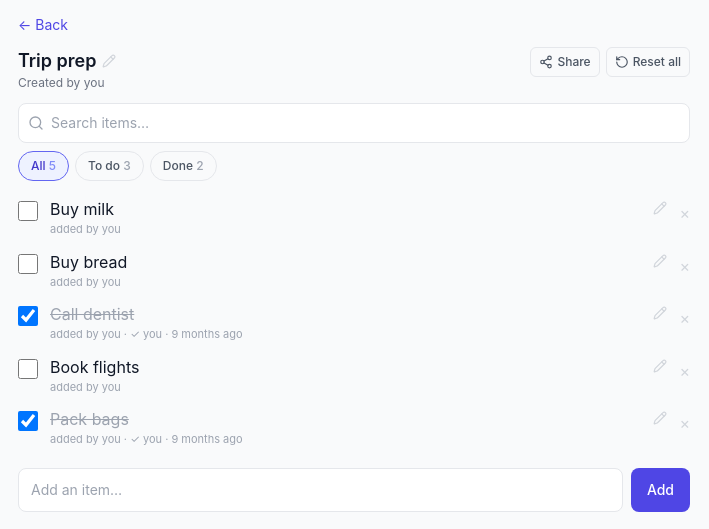
it: ChecklistDetail search & filter › filters items by search text, case-insensitively
Type "BUY" into the field named "Search checklist items" at (354, 123), box [18, 103, 690, 143]
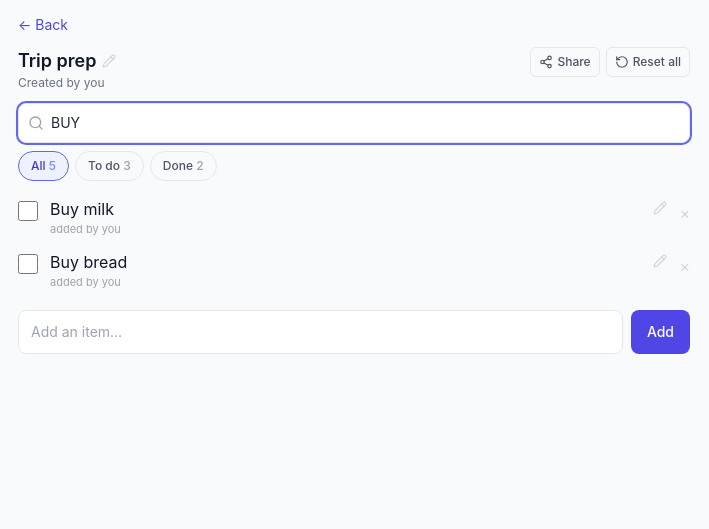
Expected: the text "Buy milk" is shown, [50, 199, 114, 219]
Now the text "Call dentist" is gone
Now the text "Book flights" is gone
